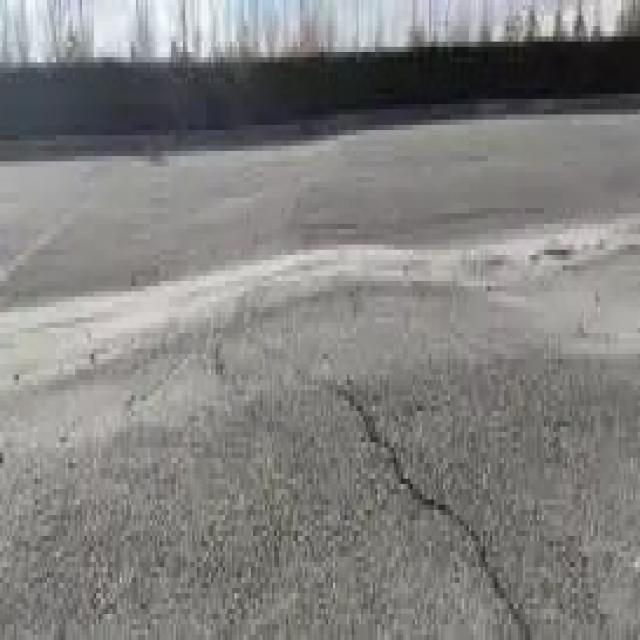Pothole: (326, 369, 581, 635)
